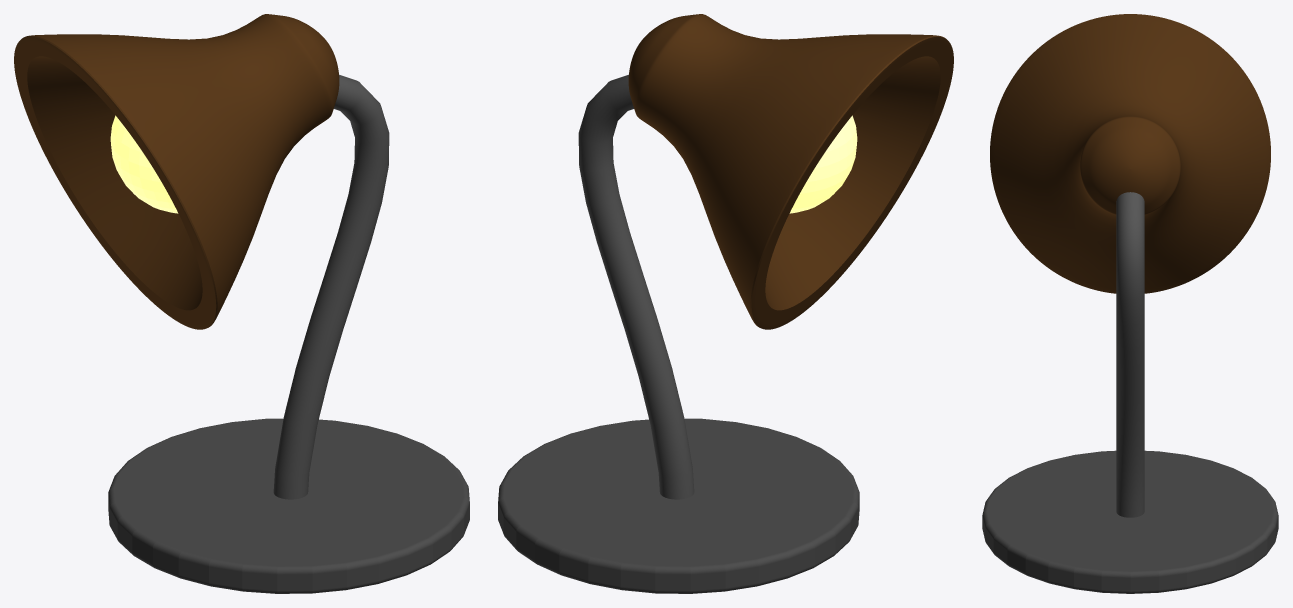
Rendered from lamp_head.fbx.
3 views of the same model, side by side, from view 1: azimuth 30°, elevation 25°; view 2: azimuth 150°, elevation 25°; view 3: azimuth 270°, elevation 25° (orthographic). The views are drawn at different scales.
Visible parts, largest first — view 1: Cylinder, Circle, BezierCurve, Sphere; view 2: Cylinder, Circle, BezierCurve, Sphere; view 3: Cylinder, Circle, BezierCurve.
Boxes of the visible parts, x1=… form: Cylinder: x1=14, y1=14, x2=339, y2=329; Circle: x1=108, y1=418, x2=469, y2=593; BezierCurve: x1=273, y1=74, x2=389, y2=499; Sphere: x1=110, y1=115, x2=178, y2=213; Cylinder: x1=628, y1=14, x2=953, y2=329; Circle: x1=498, y1=418, x2=859, y2=593; BezierCurve: x1=578, y1=74, x2=694, y2=499; Sphere: x1=789, y1=115, x2=857, y2=213; Cylinder: x1=990, y1=14, x2=1270, y2=293; Circle: x1=982, y1=450, x2=1278, y2=593; BezierCurve: x1=1116, y1=192, x2=1144, y2=517.
Size of the model in its own units: 714 by 932 by 583.
